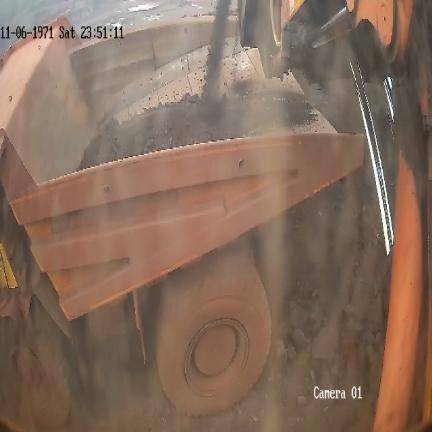pile: (253, 164, 390, 432), (80, 90, 261, 168)
